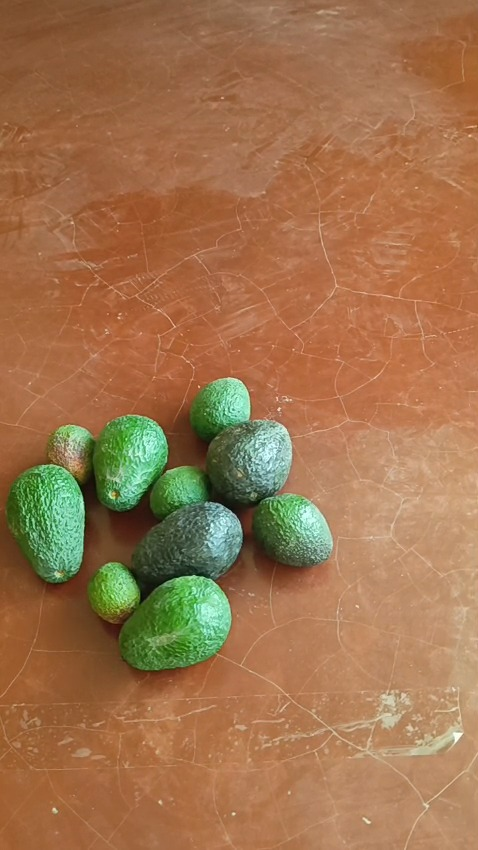Primera: (117, 573, 232, 670), (130, 501, 242, 588), (5, 464, 86, 582), (91, 415, 169, 511), (206, 419, 292, 505)
Segunda: (251, 492, 333, 567), (189, 377, 250, 441)
Tercera: (149, 465, 211, 520), (87, 561, 141, 623), (45, 424, 96, 485)
